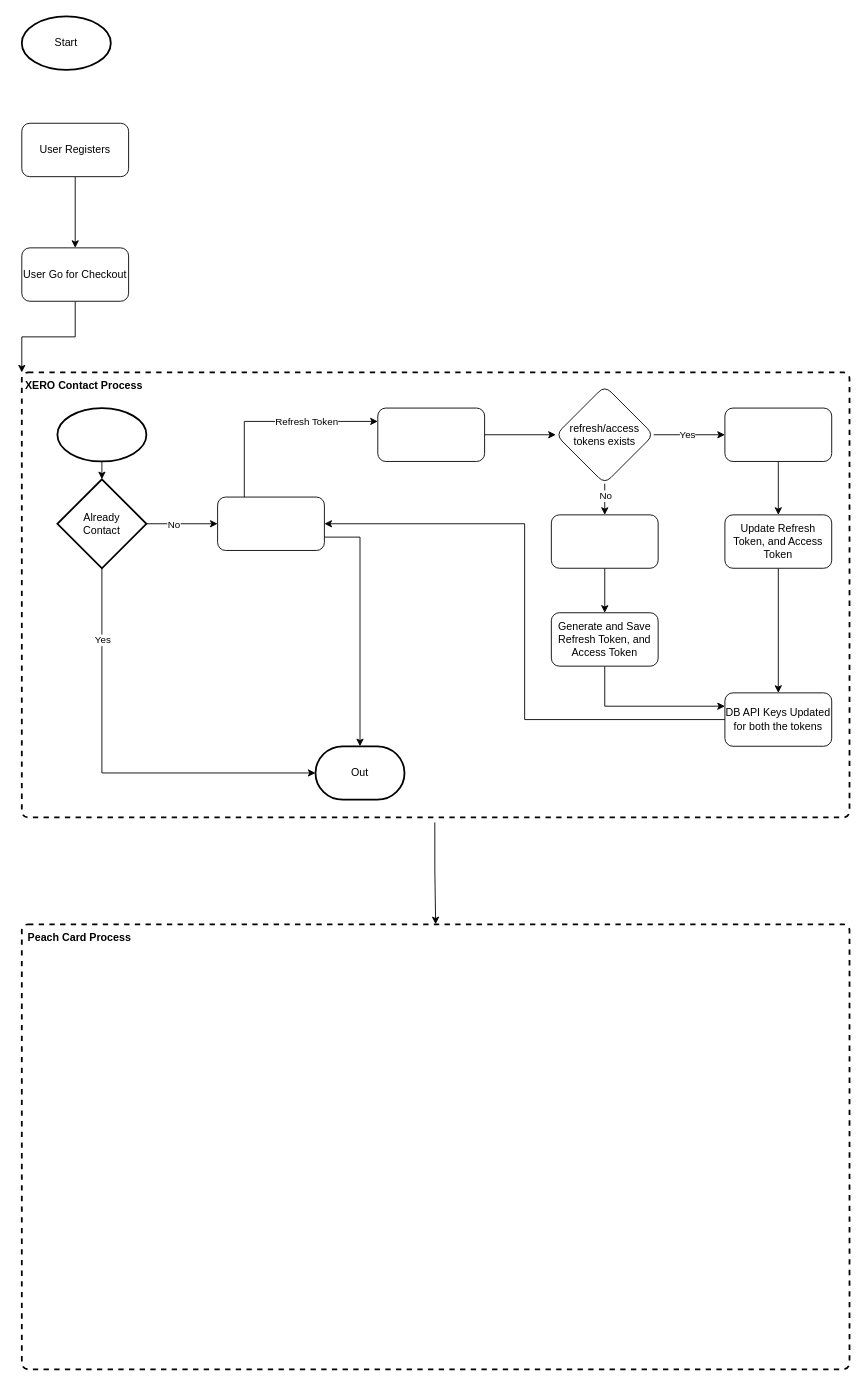
The diagram is 866 pixels wide and 1385 high, and some of its shapes have lost their labels. Each missing label, with the centre of its shape:
(uses DB api keys) createContact(User): point 270,523
Generate/Update Refresh Token, and Access Token: point 431,434
In: point 101,434
use the .env refresh token: point 604,541
use the DB refresh token: point 778,434
